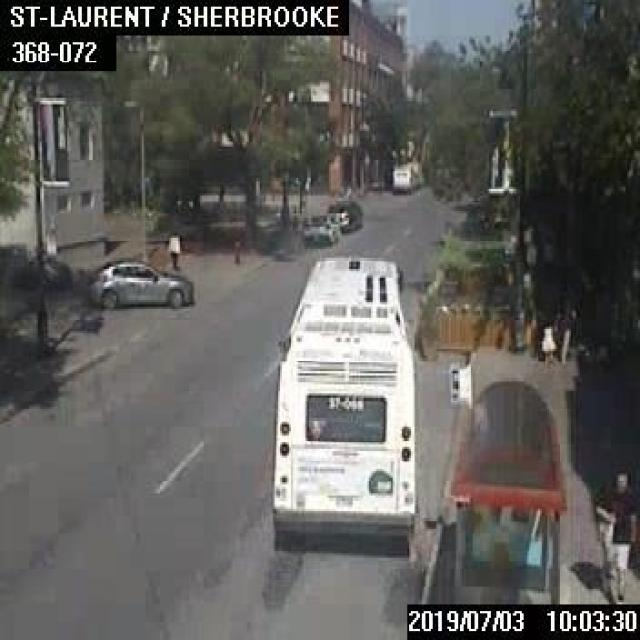bus: (268, 249, 417, 535)
pedestrian: (591, 469, 638, 602), (552, 297, 576, 363), (163, 232, 180, 268)
vehicle: (85, 251, 191, 307), (328, 195, 360, 230), (302, 212, 336, 244), (389, 161, 420, 193)
